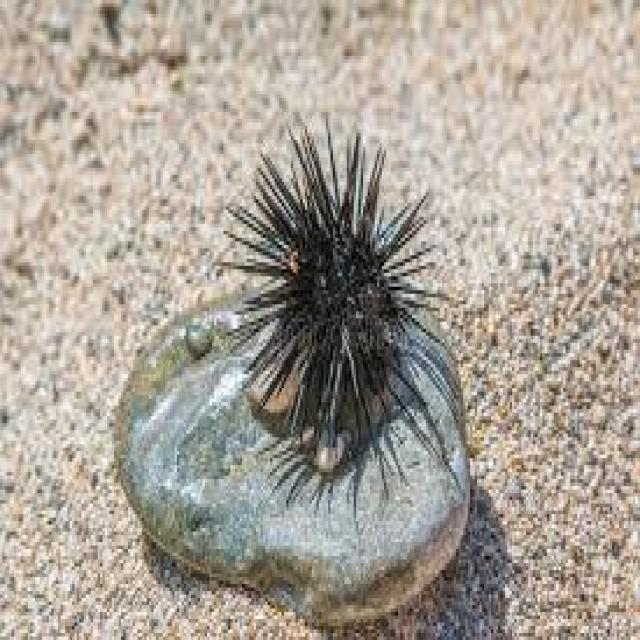Urchin: (214, 112, 454, 441)
